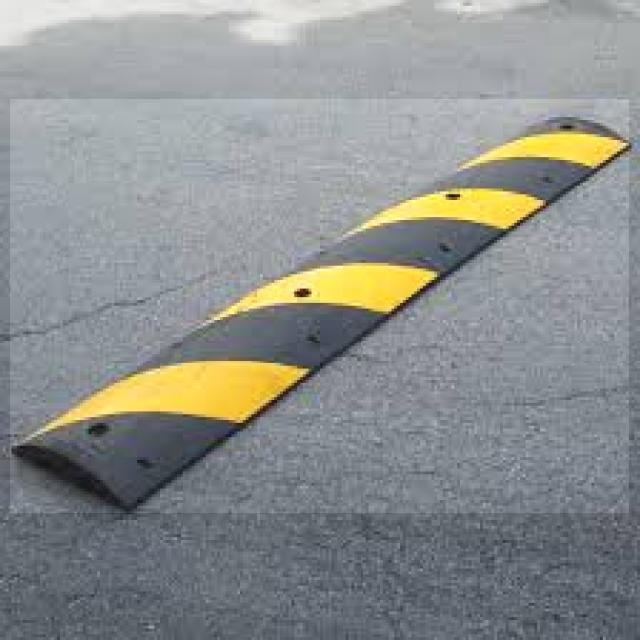speed-bump: (10, 99, 629, 513)
